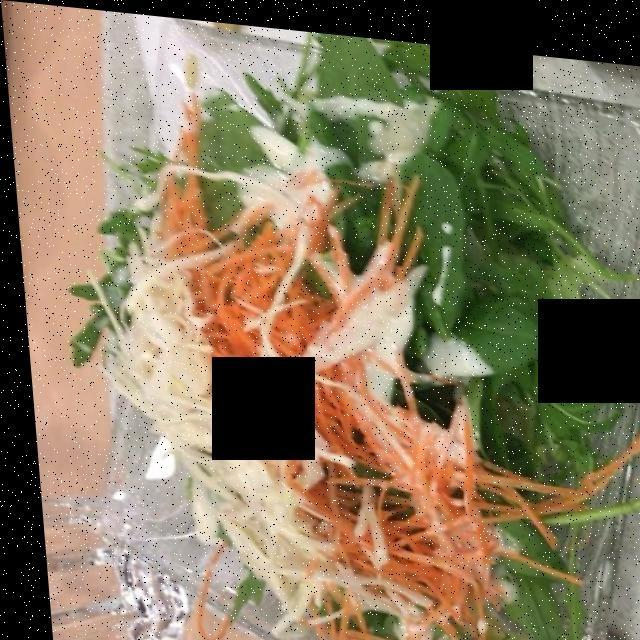coleslaw: (94, 87, 613, 640)
salad: (63, 44, 629, 640), (158, 86, 492, 637)
